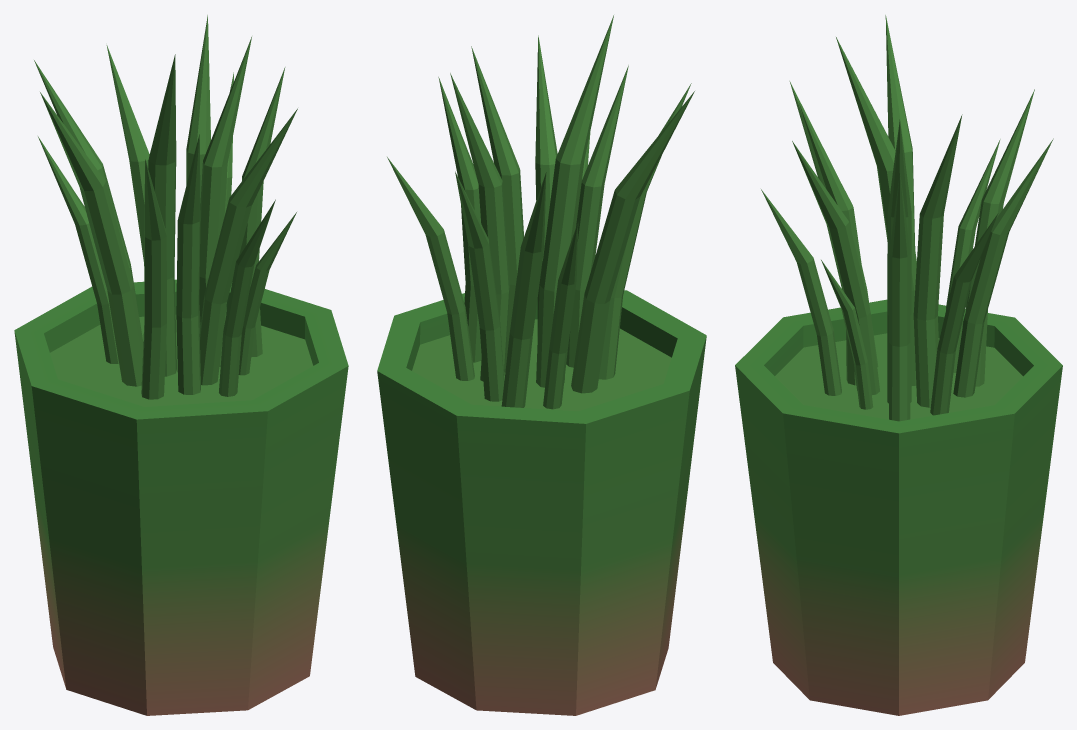
The model's file is Yogaroom_flower5.fbx.
3 views of the same model, side by side, from view 1: azimuth 30°, elevation 25°; view 2: azimuth 150°, elevation 25°; view 3: azimuth 270°, elevation 25° (orthographic). The views are drawn at different scales.
Parts seen in each view (by area): view 1: Yogaroom_flower5; view 2: Yogaroom_flower5; view 3: Yogaroom_flower5.
Part boxes in pixels (left/top/right/bottom): Yogaroom_flower5: left=14, top=15, right=348, bottom=715; Yogaroom_flower5: left=377, top=15, right=706, bottom=715; Yogaroom_flower5: left=735, top=15, right=1062, bottom=715.
Bounding box in the file's own units: 22.5 × 46.1 × 22.5.
